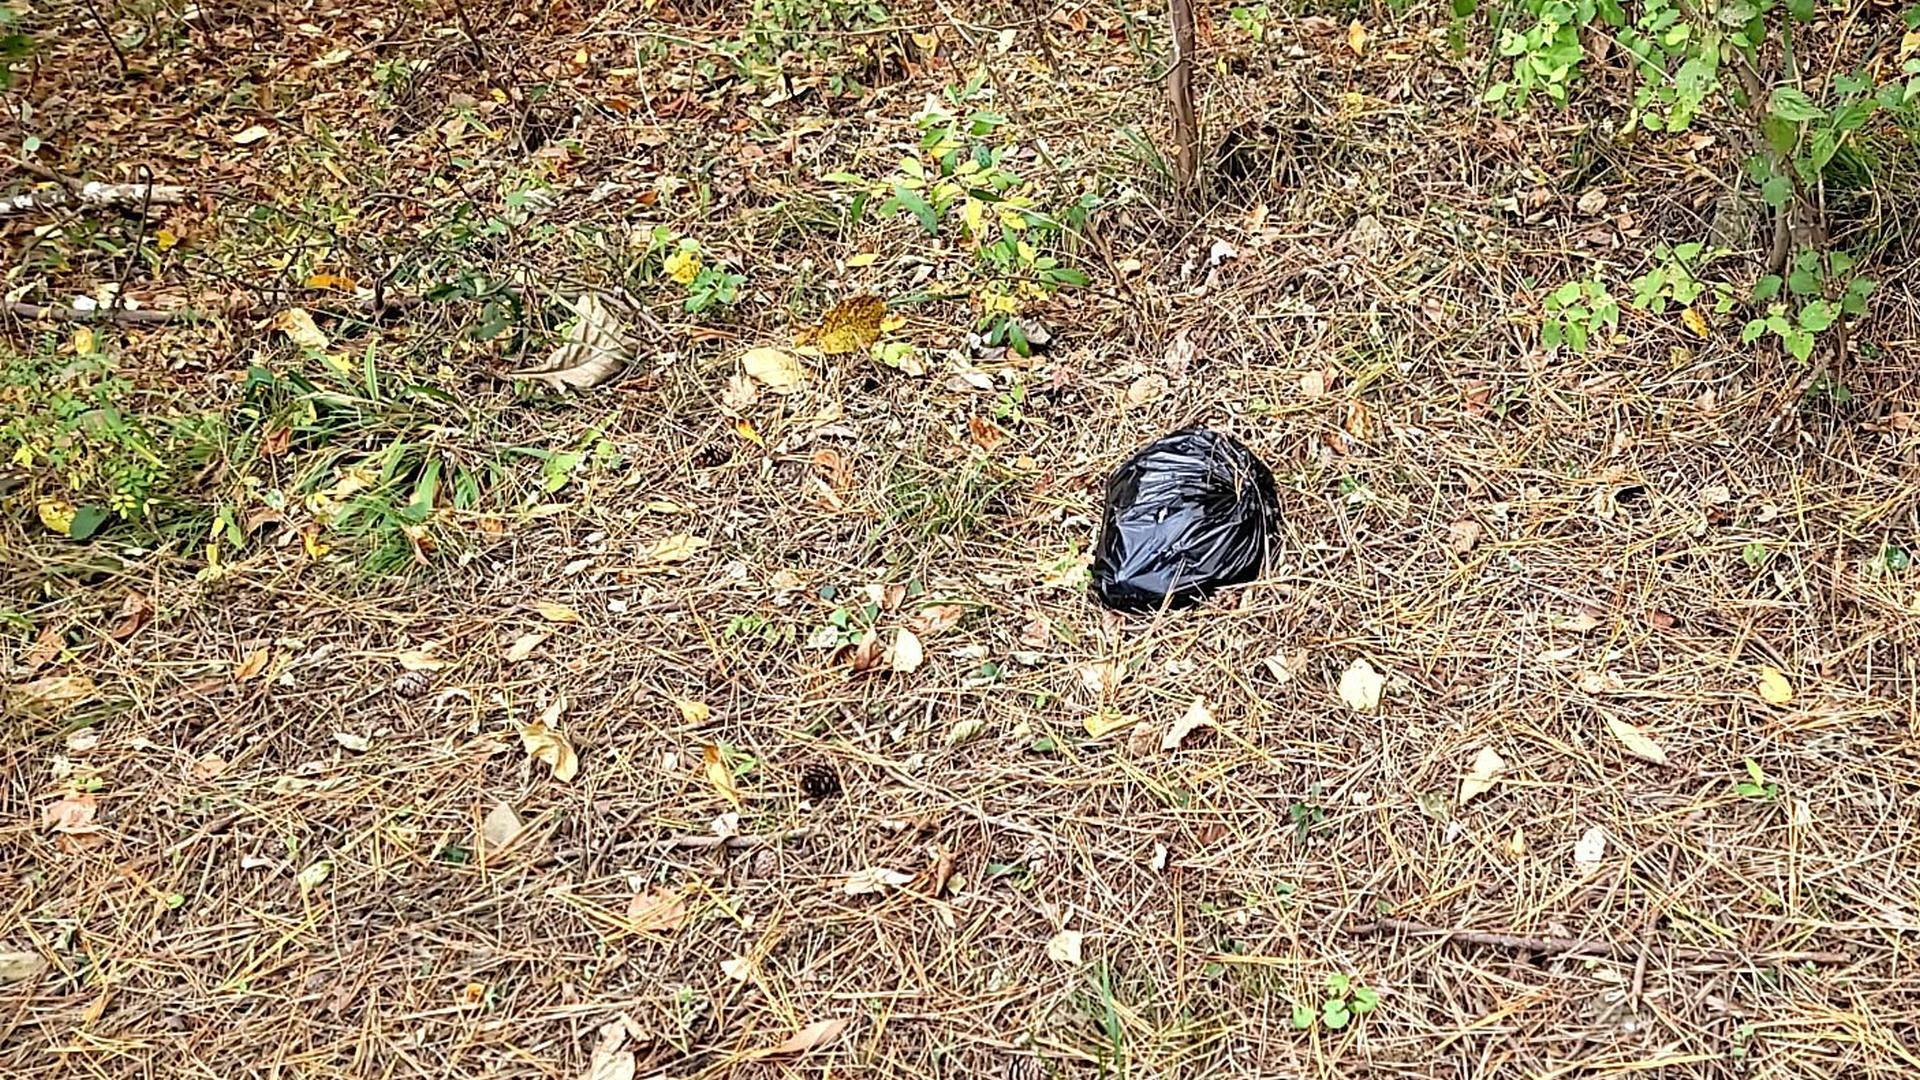black_bag: (1075, 418, 1298, 620)
